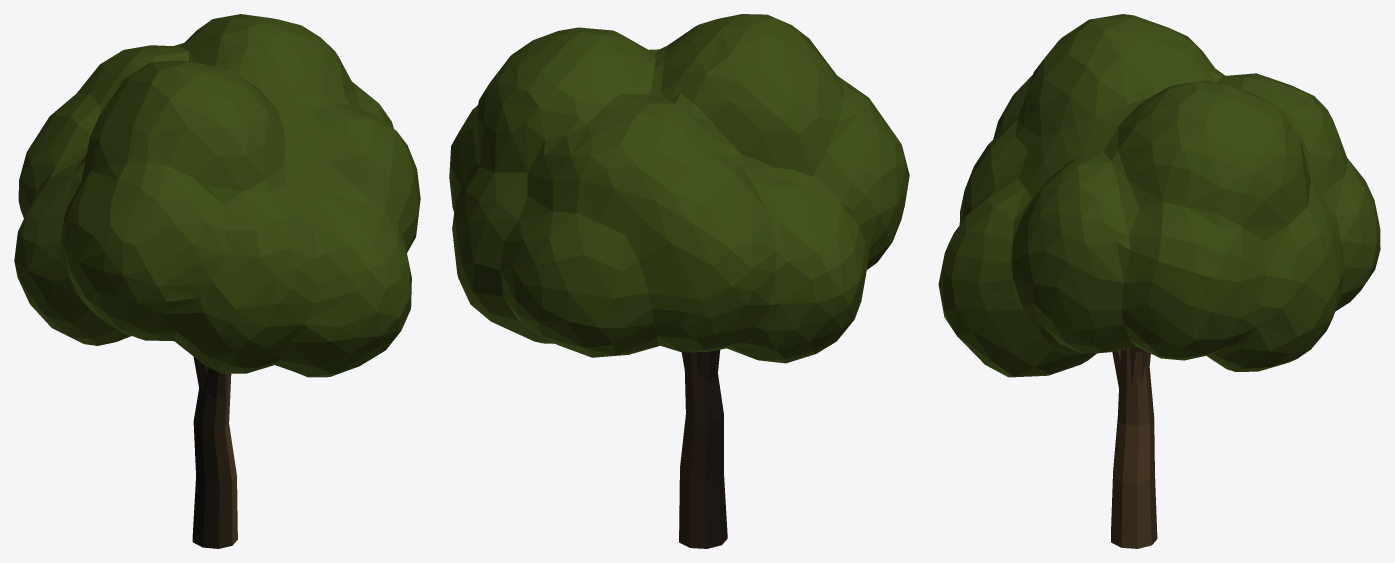
Rendered from lwf_tree_oak_v2.glb.
3 renders of one model, left to right at view 1: azimuth 30°, elevation 25°; view 2: azimuth 150°, elevation 25°; view 3: azimuth 270°, elevation 25°, orthographic. The views are drawn at different scales.
Parts seen in each view (by area): view 1: Crown, Trunk; view 2: Crown, Trunk; view 3: Crown, Trunk.
Boxes of the visible parts, <box> form: Crown: <box>14,14,420,377</box>; Trunk: <box>192,357,237,548</box>; Crown: <box>449,14,909,363</box>; Trunk: <box>679,350,727,548</box>; Crown: <box>938,14,1380,377</box>; Trunk: <box>1111,346,1157,548</box>.
Size of the model in its own units: 8.16 by 10.33 by 8.28.
Materials: 1 (1 with a texture image).
